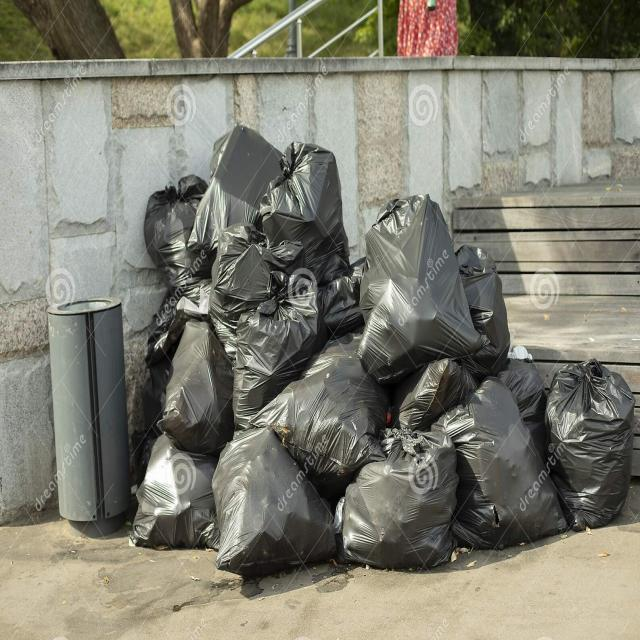garbage: (46, 130, 635, 576)
